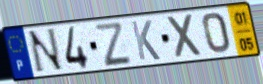0: (201, 12, 234, 56)
4: (63, 24, 90, 71)
K: (129, 19, 162, 62)
N: (26, 27, 66, 76)
X: (165, 12, 205, 62)
Z: (92, 21, 134, 69)
